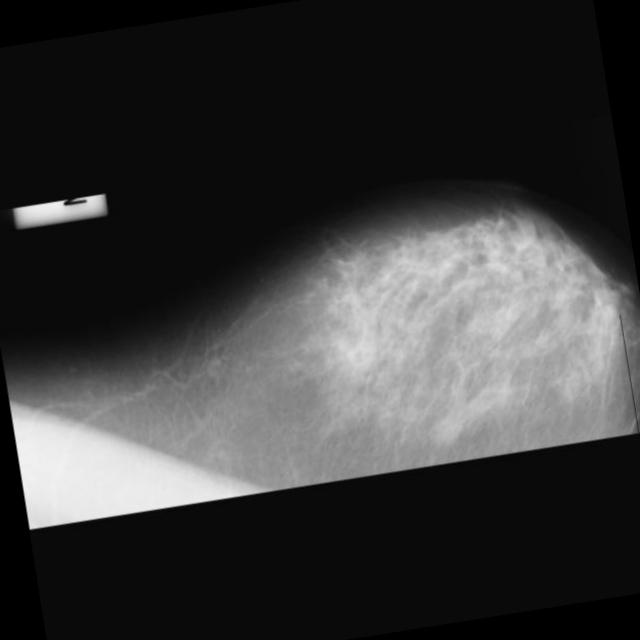ASYM: (430, 412, 462, 444)
